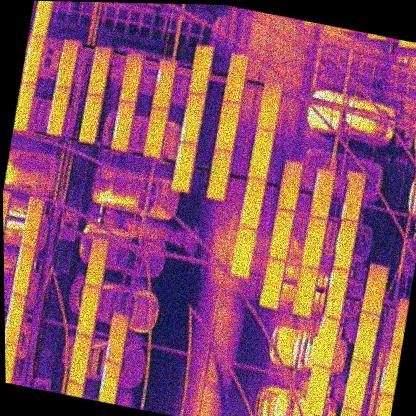Diode: (179, 89, 207, 143), (308, 168, 335, 221), (151, 58, 178, 110), (323, 268, 350, 320), (171, 140, 197, 193), (332, 218, 358, 271), (20, 32, 46, 84), (11, 244, 36, 297), (104, 311, 129, 364), (110, 99, 135, 151), (46, 84, 70, 137), (4, 293, 26, 343), (97, 360, 121, 404)
Hotspot: (312, 314, 341, 369)
Normal: (360, 261, 390, 316), (267, 206, 296, 262), (228, 225, 257, 280), (350, 311, 380, 364), (258, 257, 287, 311), (342, 359, 371, 413), (247, 128, 275, 183), (238, 176, 266, 231), (299, 215, 327, 270), (117, 52, 145, 106), (205, 147, 232, 203), (276, 159, 304, 212), (291, 265, 319, 318), (222, 52, 250, 105), (75, 283, 102, 337), (187, 43, 214, 97), (66, 332, 93, 385), (256, 79, 283, 131), (214, 100, 241, 152), (84, 235, 110, 288), (304, 365, 331, 416), (54, 37, 79, 90), (78, 92, 103, 145), (143, 106, 168, 158), (20, 196, 45, 248), (12, 79, 36, 133), (342, 172, 367, 221), (87, 43, 110, 96), (29, 1, 55, 38), (5, 339, 18, 383)
